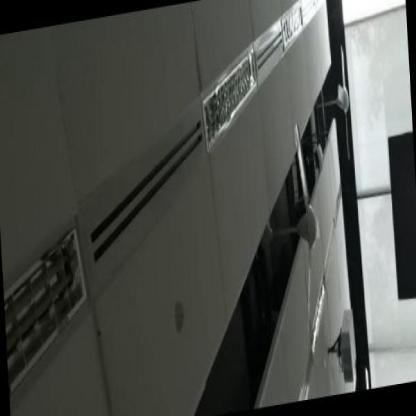light_off: (0, 197, 98, 415), (185, 34, 273, 154)
